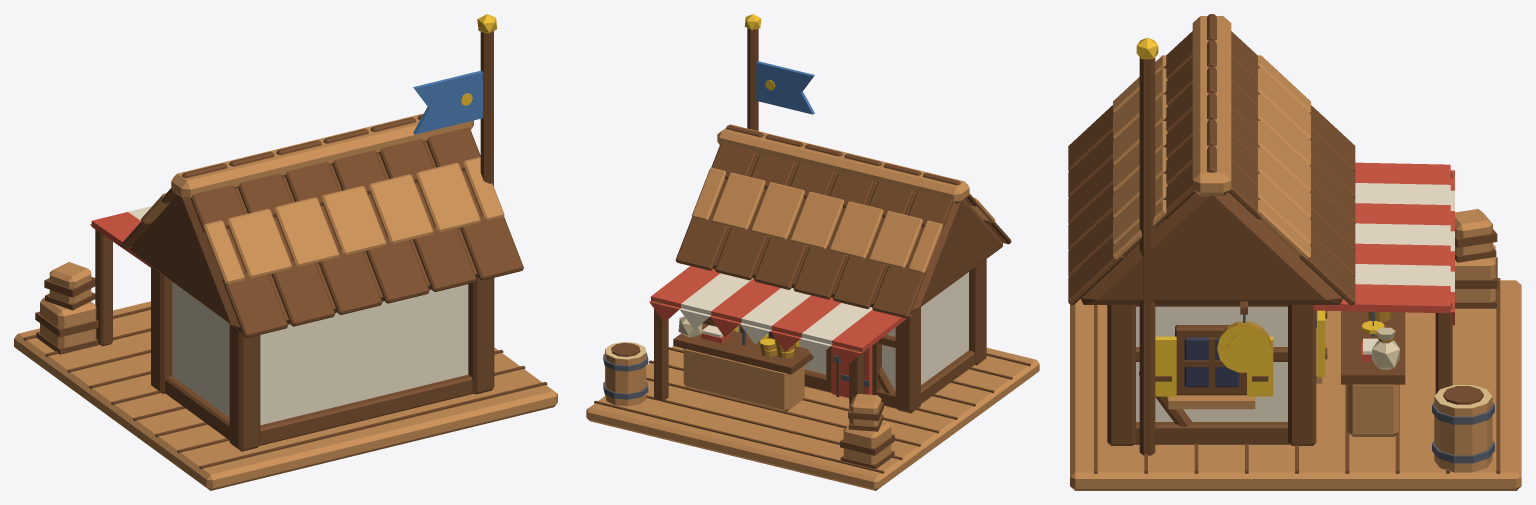
Rendered from trading_post_l1.fbx.
3 renders of one model, left to right at view 1: azimuth 30°, elevation 25°; view 2: azimuth 150°, elevation 25°; view 3: azimuth 270°, elevation 25°, orthographic. The views are drawn at different scales.
Visible parts, largest first — view 1: trading_post_l1, Flag; view 2: trading_post_l1, Flag; view 3: trading_post_l1, Sign.
Boxes of the visible parts, x1,y1,x2,y2 form: trading_post_l1: (14,14,557,490); Flag: (413,70,483,134); trading_post_l1: (586,14,1039,490); Flag: (756,61,814,114); trading_post_l1: (1068,14,1521,490); Sign: (1217,321,1271,372).
Bounding box in the file's own units: 0.864 × 0.8904 × 0.843.
